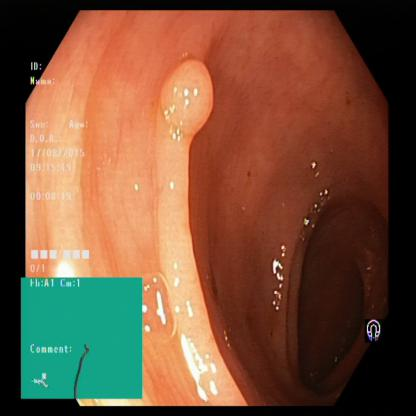Labels: (27, 61, 102, 279), (22, 279, 141, 400), (353, 310, 394, 351)
Polyps: (163, 56, 224, 144)
